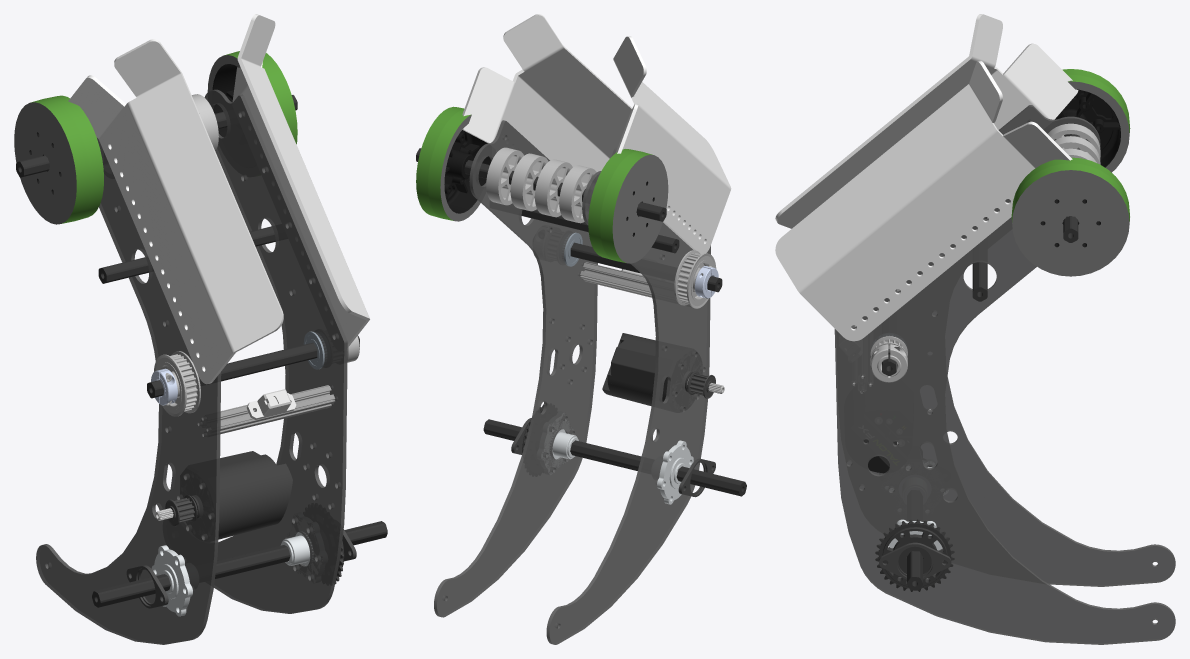
3 renders of one model, left to right at view 1: azimuth 30°, elevation 25°; view 2: azimuth 150°, elevation 25°; view 3: azimuth 270°, elevation 25°, orthographic. The views are drawn at different scales.
Visible parts, largest first — view 1: WCP intake (×2), WCP-CC2025-05-002, 4" OD 1/2" Hex ID Stealth Wheel 35A (am-2647) (×2), MirrorWCP-CC2025-05-002, Shaft (×4), Kraken X60 Brushless Motor, am-4124 500 Hex Hub (×2), REV 15mm Extrusion (Configurable), 30t 9mm Wide 1/2" Hex Bore Double Flange 5mm HTD Aluminum Pu, id90, Thrifty Bearing Retention Hat (TTB-0059), 12t 9mm Wide Falcon Bore Double Flange 5mm HTD Aluminum Pull (+1 smaller); view 2: WCP intake (×2), MirrorWCP-CC2025-05-002, 4" OD 1/2" Hex ID Stealth Wheel 35A (am-2647) (×2), WCP-CC2025-05-002, 2" OD 30A Straight Flex Wheel (217-6353) (×4), Shaft (×4), Kraken X60 Brushless Motor, am-4124 500 Hex Hub (×2), 30t 9mm Wide 1/2" Hex Bore Double Flange 5mm HTD Aluminum Pu, REV 15mm Extrusion (Configurable), Thrifty Bearing Retention Hat (TTB-0059), 12t 9mm Wide Falcon Bore Double Flange 5mm HTD Aluminum Pull; view 3: WCP intake (×2), MirrorWCP-CC2025-05-002, 4" OD 1/2" Hex ID Stealth Wheel 35A (am-2647) (×2), WCP-CC2025-05-002, 1/2" Hex Bore Aluminum Versahub (217-2592), 32t Plate 25 Chain Sprocket (217-2690), Shaft (×2), Thrifty Bearing Retention Hat (TTB-0059), am-1238a 500Hex Collar Clamp Body, 2" OD 30A Straight Flex Wheel (217-6353).
Part boxes in pixels (<box>): WCP intake (×2): <box>36,89,347,644</box>; WCP-CC2025-05-002: <box>68,39,283,384</box>; 4" OD 1/2" Hex ID Stealth Wheel 35A (am-2647) (×2): <box>14,51,297,224</box>; MirrorWCP-CC2025-05-002: <box>232,14,369,347</box>; Shaft (×4): <box>16,95,387,607</box>; Kraken X60 Brushless Motor: <box>155,451,292,540</box>; am-4124 500 Hex Hub (×2): <box>151,514,322,616</box>; REV 15mm Extrusion (Configurable): <box>202,385,335,436</box>; 30t 9mm Wide 1/2" Hex Bore Double Flange 5mm HTD Aluminum Pu: <box>154,351,200,416</box>; id90: <box>246,389,296,419</box>; Thrifty Bearing Retention Hat (TTB-0059): <box>126,565,168,608</box>; 12t 9mm Wide Falcon Bore Double Flange 5mm HTD Aluminum Pull: <box>165,495,197,526</box>; WCP intake (×2): <box>434,120,710,644</box>; MirrorWCP-CC2025-05-002: <box>462,14,632,172</box>; 4" OD 1/2" Hex ID Stealth Wheel 35A (am-2647) (×2): <box>416,106,668,263</box>; WCP-CC2025-05-002: <box>613,36,731,254</box>; 2" OD 30A Straight Flex Wheel (217-6353) (×4): <box>486,147,596,223</box>; Shaft (×4): <box>416,148,746,496</box>; Kraken X60 Brushless Motor: <box>602,333,724,411</box>; am-4124 500 Hex Hub (×2): <box>541,413,693,504</box>; 30t 9mm Wide 1/2" Hex Bore Double Flange 5mm HTD Aluminum Pu: <box>674,250,716,308</box>; REV 15mm Extrusion (Configurable): <box>580,262,652,297</box>; Thrifty Bearing Retention Hat (TTB-0059): <box>678,458,715,497</box>; 12t 9mm Wide Falcon Bore Double Flange 5mm HTD Aluminum Pull: <box>687,371,715,398</box>; WCP intake (×2): <box>834,105,1175,644</box>; MirrorWCP-CC2025-05-002: <box>775,60,1072,341</box>; 4" OD 1/2" Hex ID Stealth Wheel 35A (am-2647) (×2): <box>1011,69,1130,276</box>; WCP-CC2025-05-002: <box>775,14,1078,228</box>; 1/2" Hex Bore Aluminum Versahub (217-2592): <box>882,527,947,586</box>; 32t Plate 25 Chain Sprocket (217-2690): <box>875,519,954,591</box>; Shaft (×2): <box>907,217,987,590</box>; Thrifty Bearing Retention Hat (TTB-0059): <box>879,542,951,579</box>; am-1238a 500Hex Collar Clamp Body: <box>870,344,907,382</box>; 2" OD 30A Straight Flex Wheel (217-6353): <box>1048,123,1100,158</box>.
Size of the model in its own units: 0.2667 by 0.5454 by 0.3427.
